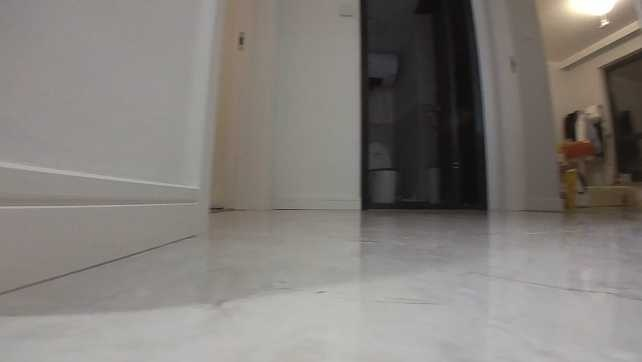toilet: (364, 137, 399, 202)
